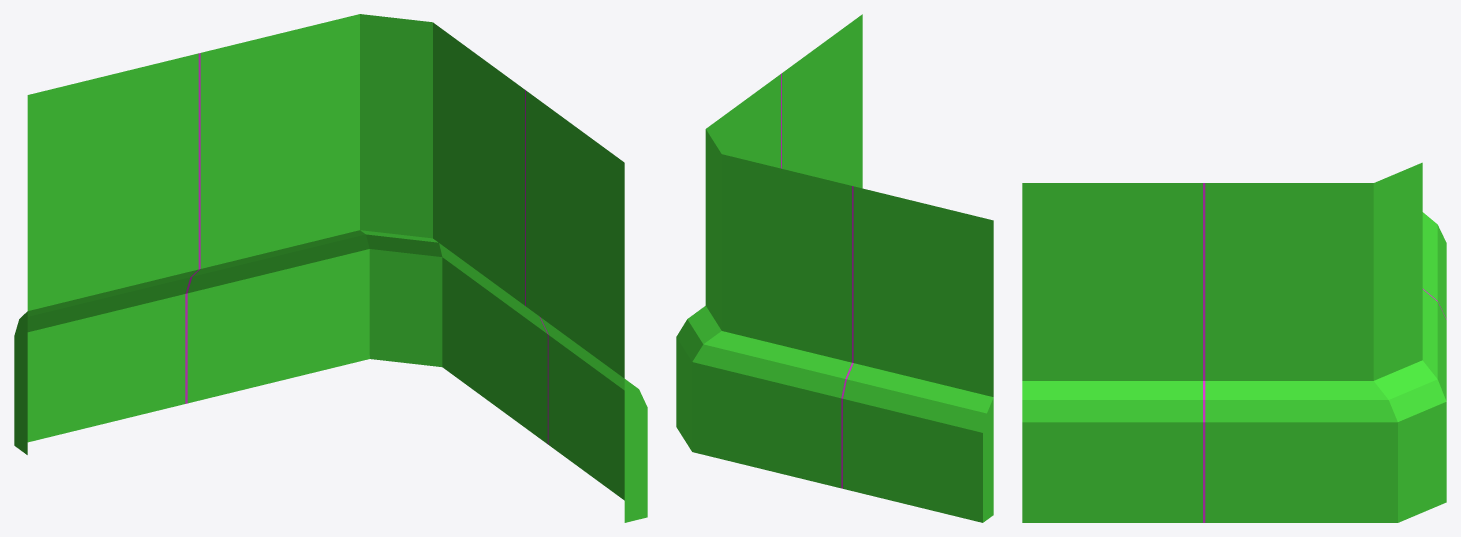
Rendered from Wall_43_A_Corner_Out_02.fbx.
The picture shows the model from 3 angles, left to right: view 1: azimuth 30°, elevation 25°; view 2: azimuth 150°, elevation 25°; view 3: azimuth 270°, elevation 25°; orthographic projection. The views are drawn at different scales.
Visible parts, largest first — view 1: Wall_43_A_Corner_Out_02; view 2: Wall_43_A_Corner_Out_02; view 3: Wall_43_A_Corner_Out_02.
Boxes of the visible parts, x1,y1,x2,y2 form: Wall_43_A_Corner_Out_02: (14, 14, 647, 522); Wall_43_A_Corner_Out_02: (676, 14, 993, 522); Wall_43_A_Corner_Out_02: (1022, 162, 1446, 522).
Bounding box in the file's own units: 533 × 457 × 533.
